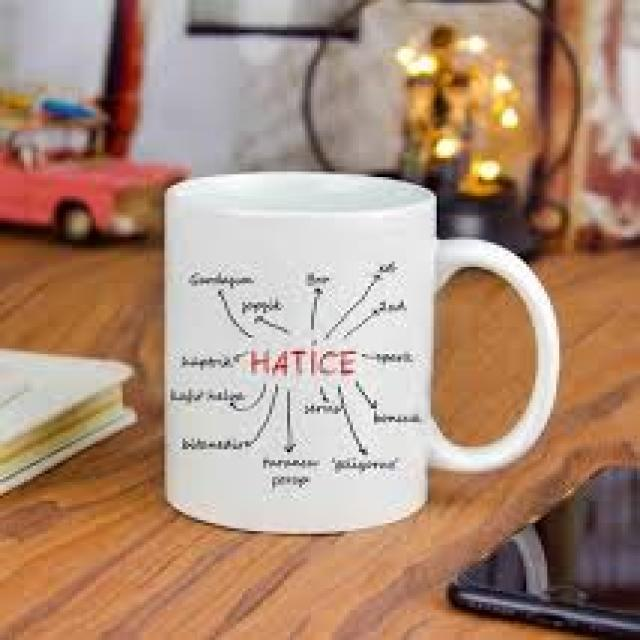taza: (163, 170, 562, 534)
